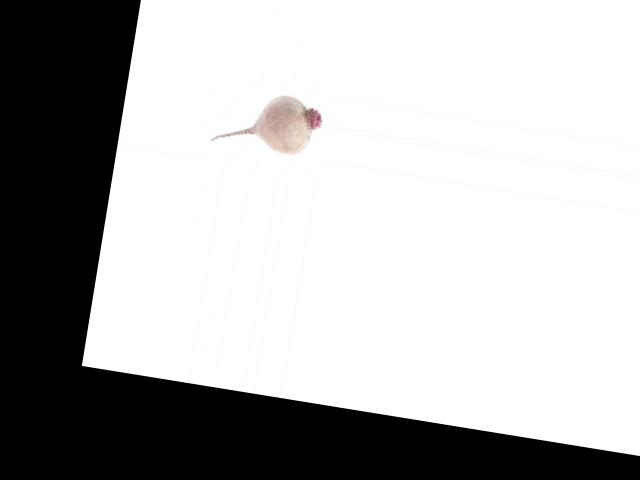beet: (211, 83, 325, 158)
